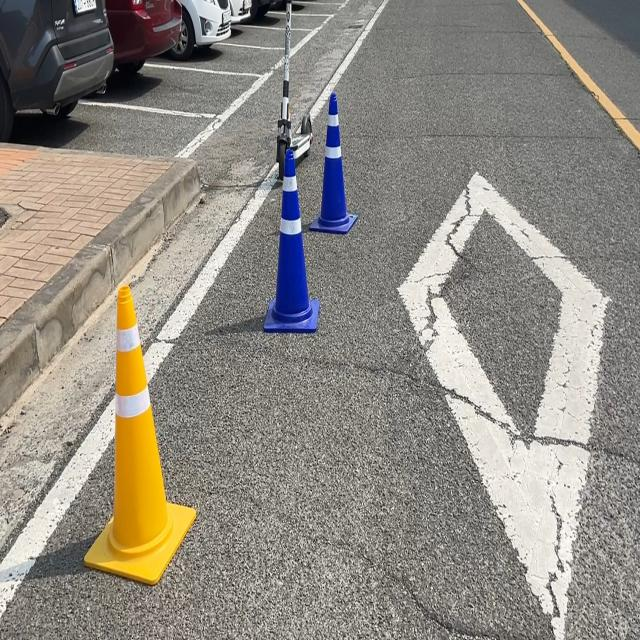b_rub: (264, 147, 320, 332), (309, 90, 358, 233)
y_rub: (84, 284, 196, 585)
